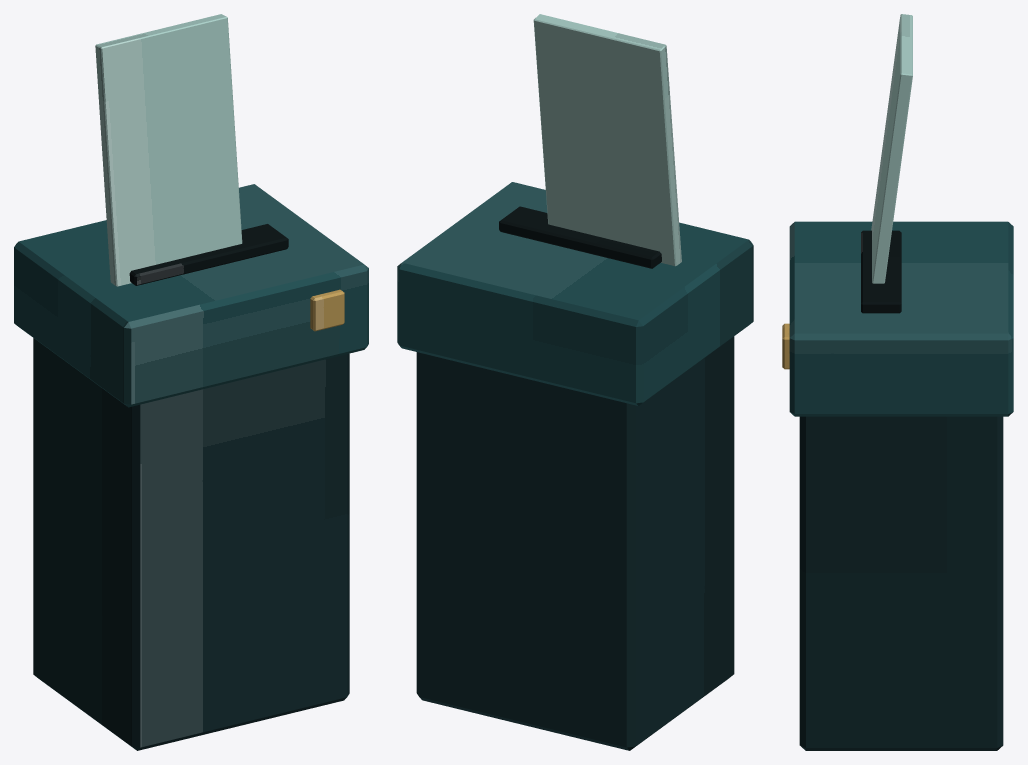
The model's file is office_shredder_teal.glb.
The picture shows the model from 3 angles, left to right: view 1: azimuth 30°, elevation 25°; view 2: azimuth 150°, elevation 25°; view 3: azimuth 270°, elevation 25°; orthographic projection. The views are drawn at different scales.
Visible parts, largest first — view 1: ShredderBin, ShredderHead, PaperStrip, PaperSlot, PowerButton; view 2: ShredderBin, ShredderHead, PaperStrip, PaperSlot; view 3: ShredderBin, ShredderHead, PaperStrip, PaperSlot.
Boxes of the visible parts, x1,y1,x2,y2 form: ShredderBin: (33, 338, 349, 750); ShredderHead: (14, 184, 368, 407); PaperStrip: (95, 14, 242, 286); PaperSlot: (129, 224, 288, 285); PowerButton: (310, 289, 344, 331); ShredderBin: (416, 336, 734, 750); ShredderHead: (397, 182, 753, 405); PaperStrip: (533, 14, 681, 266); PaperSlot: (499, 206, 661, 268); ShredderBin: (799, 416, 1003, 750); ShredderHead: (789, 221, 1013, 416); PaperStrip: (871, 14, 912, 283); PaperSlot: (861, 230, 901, 313).
Bounding box in the file's own units: 0.54 × 1.4 × 0.454.
1 material, 1 textured.
